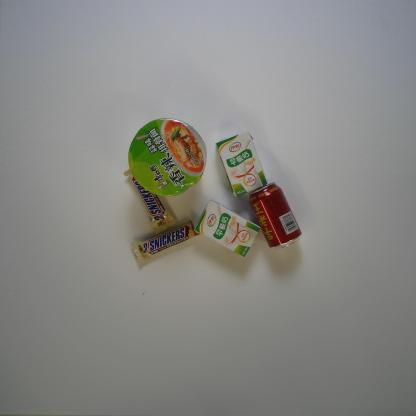Chocolate: (124, 166, 177, 235), (131, 219, 201, 264)
Drink: (248, 182, 302, 250)
Instant Noodles: (128, 118, 208, 197)
Milk: (194, 200, 261, 258), (214, 130, 269, 198)
